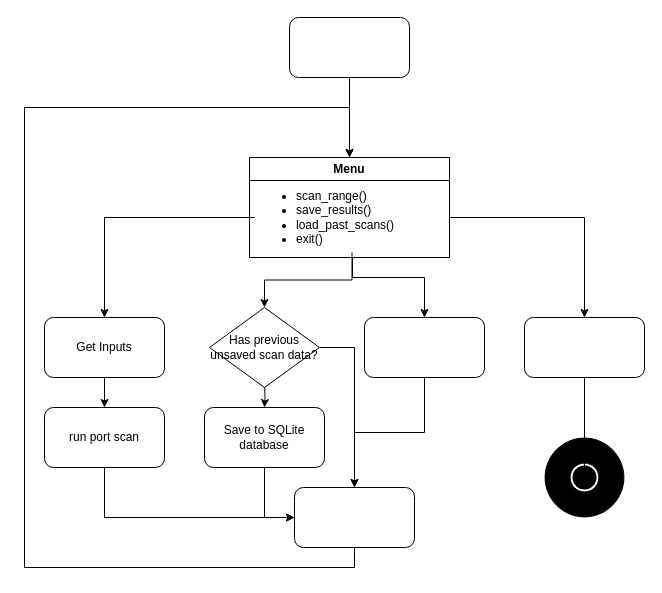
This 662x593 diagram has some shape labels left out. Each missing label, with the centre of its shape:
Exit Destroy current: (584,347)
Load SQLite data: (424,347)
Start Application: (349,47)
